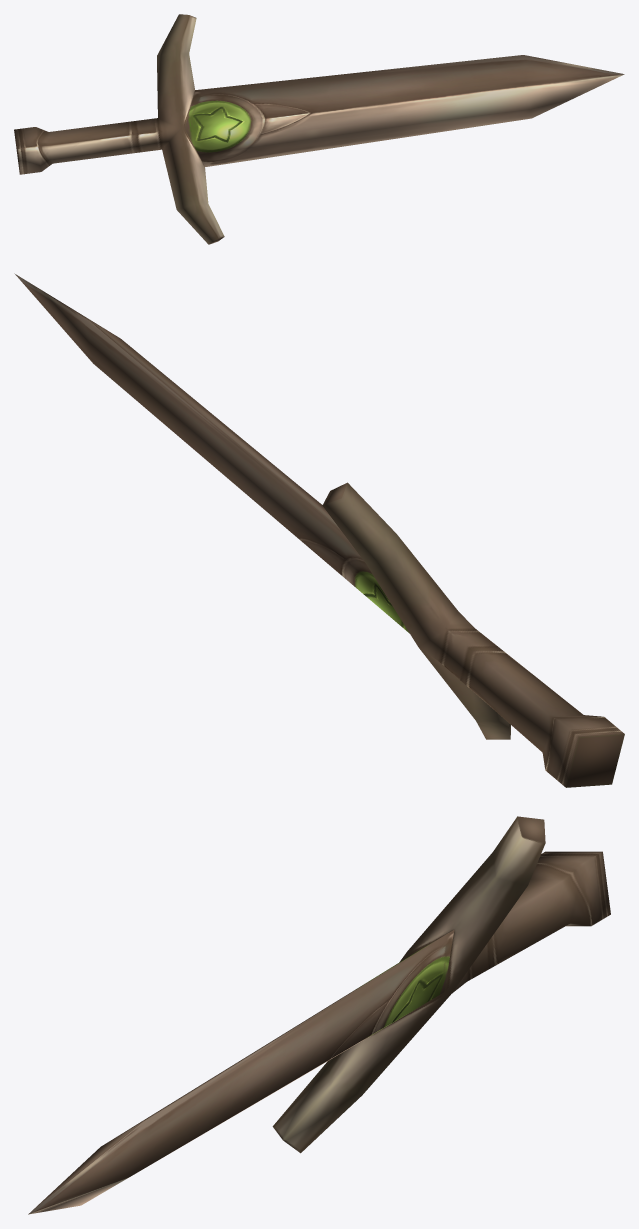
The model's file is Sword(29).obj.
3 renders of one model, top to bottom at view 1: azimuth 30°, elevation 25°; view 2: azimuth 150°, elevation 25°; view 3: azimuth 270°, elevation 25°, orthographic. The views are drawn at different scales.
Visible parts, largest first — view 1: sword1_LOD003; view 2: sword1_LOD003; view 3: sword1_LOD003.
Part boxes in pixels (x1,y1,x2,y2): sword1_LOD003: (14, 14, 624, 244); sword1_LOD003: (14, 273, 624, 787); sword1_LOD003: (28, 816, 610, 1214).
Bounding box in the file's own units: 1.24 × 0.4462 × 0.6522.
